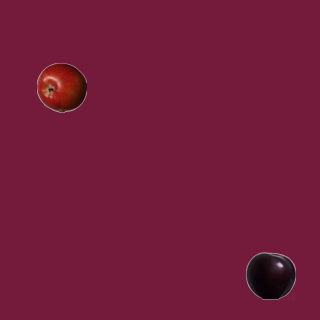Apple Braeburn: (36, 62, 86, 112)
Cherry Wax Black: (245, 250, 295, 300)
